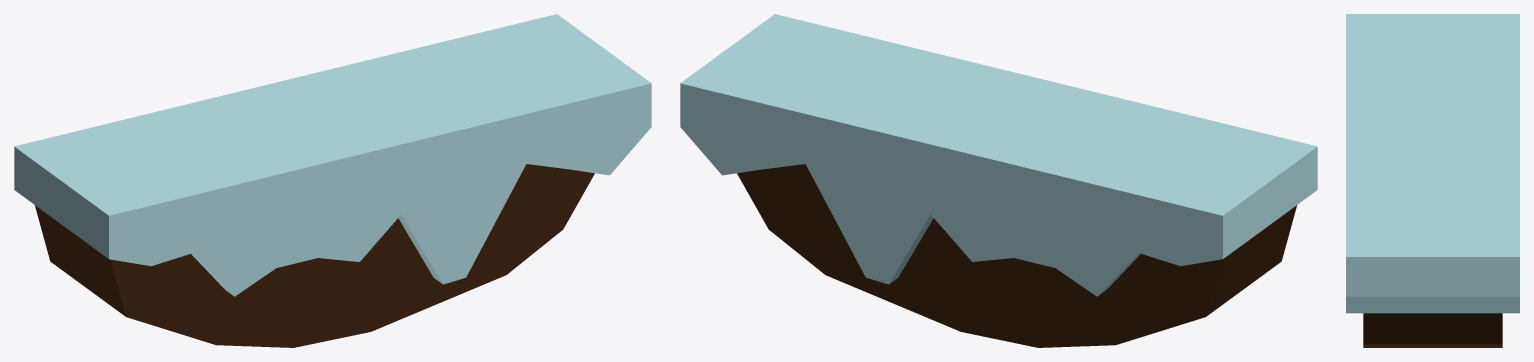
Rendered from FloatLevel.fbx.
3 views of the same model, side by side, from view 1: azimuth 30°, elevation 25°; view 2: azimuth 150°, elevation 25°; view 3: azimuth 270°, elevation 25° (orthographic). The views are drawn at different scales.
Visible parts, largest first — view 1: FloatLevel; view 2: FloatLevel; view 3: FloatLevel.
Boxes of the visible parts, box(x1,y1,x2,y2) form: FloatLevel: box(14, 14, 651, 347); FloatLevel: box(680, 14, 1317, 347); FloatLevel: box(1346, 14, 1519, 347).
Bounding box in the file's own units: 826 × 275 × 250.
